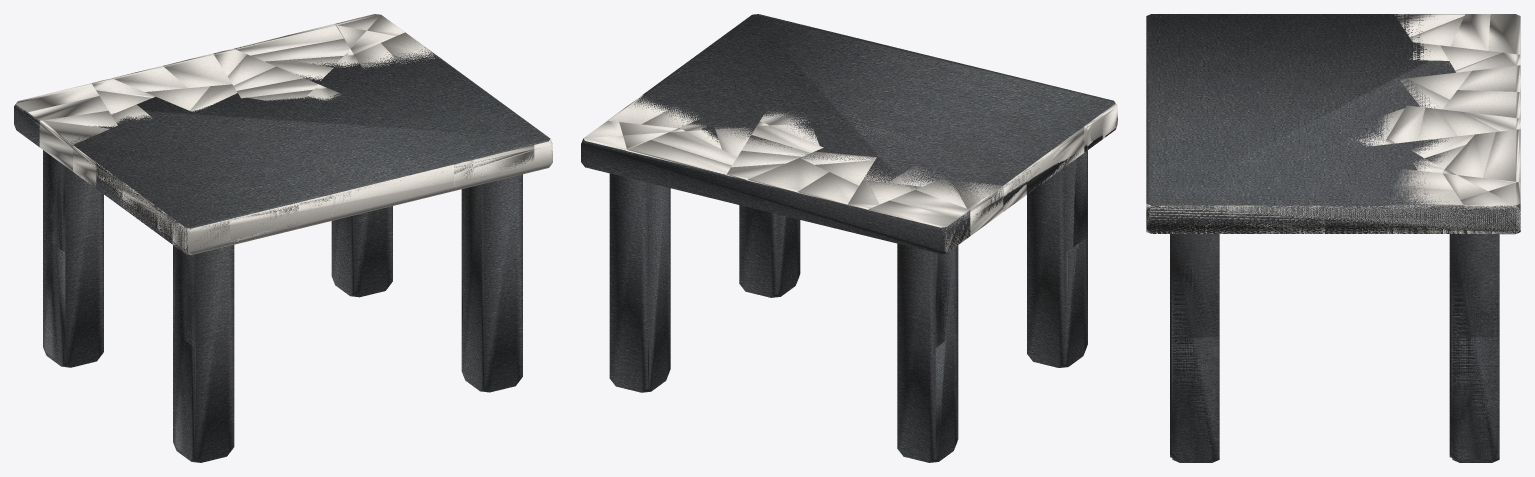
Rendered from 07_table_square.glb.
3 renders of one model, left to right at view 1: azimuth 30°, elevation 25°; view 2: azimuth 150°, elevation 25°; view 3: azimuth 270°, elevation 25°, orthographic. The views are drawn at different scales.
Visible parts, largest first — view 1: Intact, Top_fragment_19, Top, Top_fragment_34, Leg_01, Leg_03, Leg_03_fragment_1, Top_fragment_44, Top_fragment_63, Top_fragment_10, Leg_01_fragment_2, Leg_01_fragment_1 (+1 smaller); view 2: Intact, Top_fragment_19, Leg_03, Leg_01, Leg_04, Top_fragment_34, Leg_02, Leg_03_fragment_2, Top, Top_fragment_10, Top_fragment_44, Leg_01_fragment_2 (+1 smaller); view 3: Intact, Top_fragment_19, Leg_04, Leg_02, Top_fragment_34, Top, Leg_02_fragment_2, Leg_04_fragment_1, Leg_02_fragment_1, Leg_04_fragment_2, Top_fragment_63, Top_fragment_10 (+1 smaller).
Part boxes in pixels (box(x1,y1,x2,y2)): Intact: box(14, 47, 550, 461); Top_fragment_19: box(16, 48, 341, 171); Top: box(15, 104, 552, 254); Top_fragment_34: box(233, 14, 434, 80); Leg_01: box(173, 245, 232, 462); Leg_03: box(43, 150, 102, 367); Leg_03_fragment_1: box(43, 240, 65, 361); Top_fragment_44: box(122, 182, 332, 254); Top_fragment_63: box(454, 142, 552, 186); Top_fragment_10: box(73, 104, 151, 207); Leg_01_fragment_2: box(173, 246, 195, 347); Leg_01_fragment_1: box(173, 335, 195, 454); Intact: box(581, 14, 1116, 440); Top_fragment_19: box(726, 111, 1003, 251); Leg_03: box(897, 243, 957, 462); Leg_01: box(1027, 158, 1086, 367); Leg_04: box(609, 173, 669, 392); Top_fragment_34: box(583, 95, 753, 175); Leg_02: box(739, 205, 796, 297); Leg_03_fragment_2: box(935, 246, 957, 347); Top: box(856, 102, 1116, 252); Top_fragment_10: box(863, 151, 1052, 211); Top_fragment_44: box(1052, 103, 1117, 175); Leg_01_fragment_2: box(1073, 151, 1087, 247); Intact: box(1146, 14, 1520, 457); Top_fragment_19: box(1351, 14, 1520, 146); Leg_04: box(1452, 234, 1499, 462); Leg_02: box(1172, 234, 1219, 462); Top_fragment_34: box(1387, 129, 1520, 233); Top: box(1146, 16, 1520, 234); Leg_02_fragment_2: box(1171, 234, 1218, 337); Leg_04_fragment_1: box(1451, 337, 1498, 459); Leg_02_fragment_1: box(1171, 337, 1218, 459); Leg_04_fragment_2: box(1451, 234, 1498, 337); Top_fragment_63: box(1146, 205, 1272, 233); Top_fragment_10: box(1409, 43, 1450, 65).
Size of the model in its own units: 1.15 by 0.7485 by 0.95.
2 materials, 2 textured.
